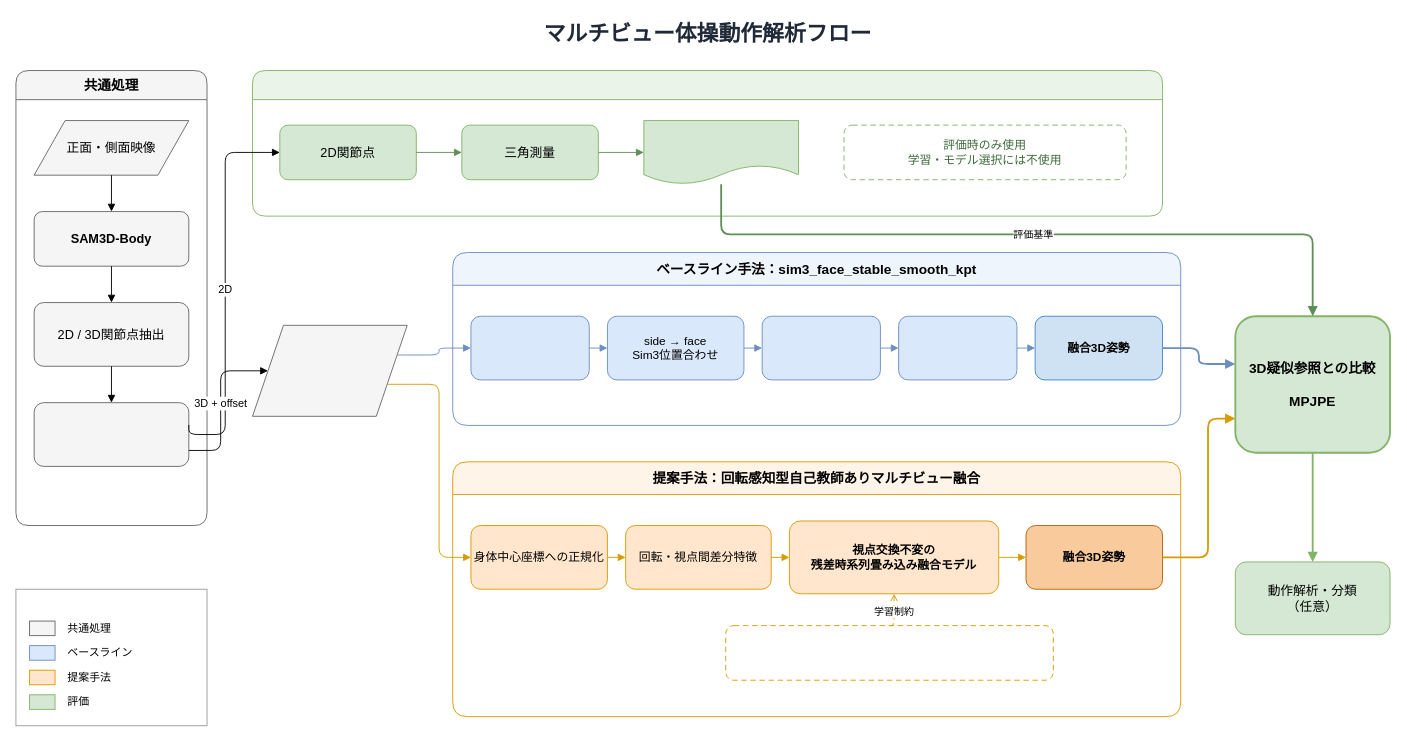
The diagram is 1407 pixels wide and 742 high, and some of its shapes have lost their labels. Each missing label, with the box of its shape:
3D疑似参照: (643, 120, 799, 184)
凡例: (15, 588, 207, 726)
安定関節の選択: (470, 315, 589, 380)
平均融合: (761, 315, 880, 380)
時間同期・動作周期分割: (33, 402, 189, 466)
時間平滑化: (898, 315, 1017, 380)
正面・側面3D関節点 + offset_side_to_face: (252, 324, 407, 416)
自己教師あり学習 破損・合意性・幾何・時間的一貫性・周期回転: (725, 625, 1053, 680)
評価用疑似参照の生成: (252, 70, 1163, 216)
